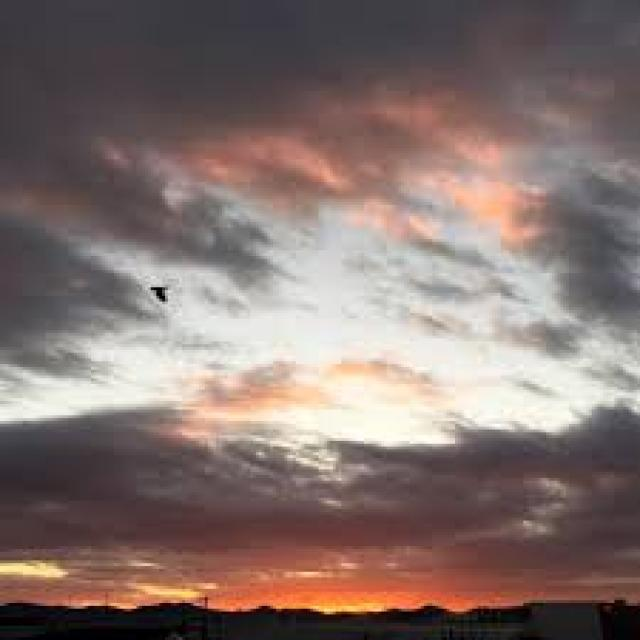bird: (143, 264, 177, 310)
